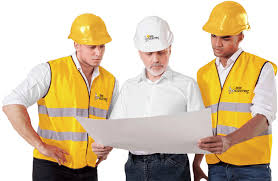Person_wearing_helmet: (199, 0, 252, 40), (130, 12, 176, 58), (65, 9, 113, 53)
